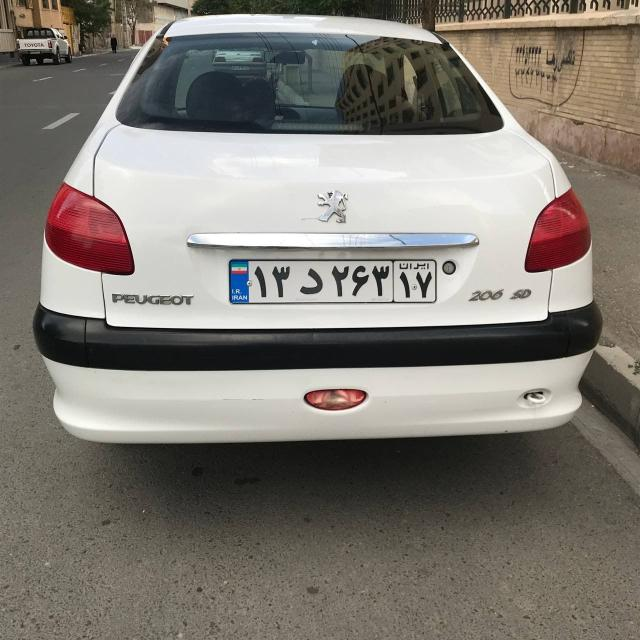Plates: (229, 257, 436, 304)
